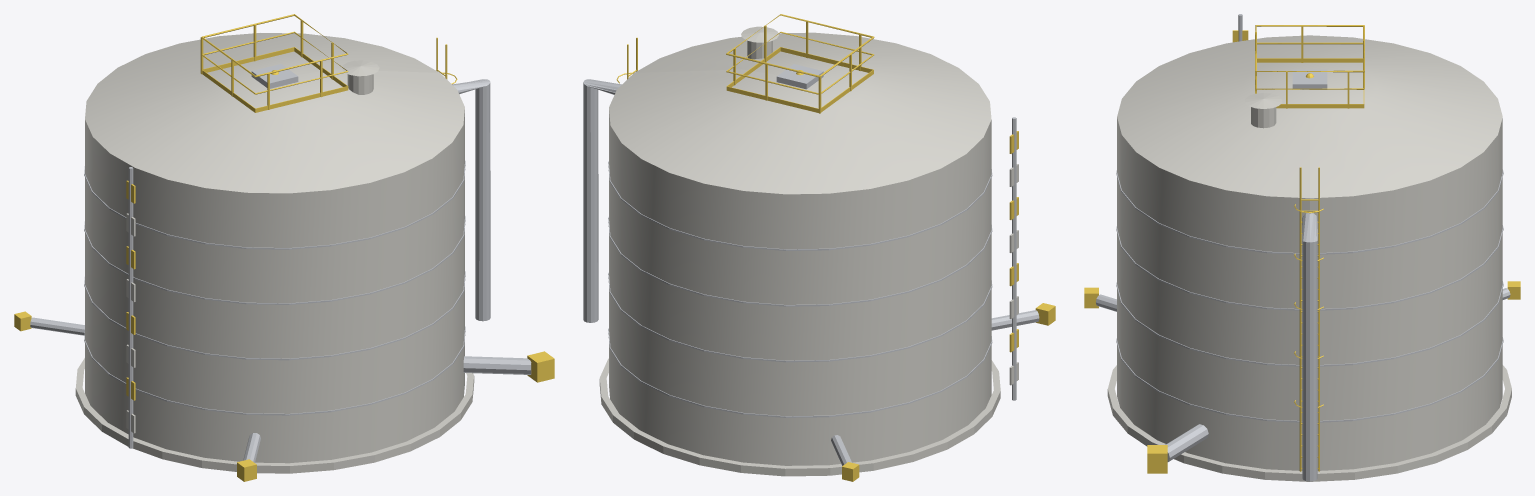
File: ore-processing-and-haulage-plant-process-water-tank-70b51852.glb
3 views of the same model, side by side, from view 1: azimuth 30°, elevation 25°; view 2: azimuth 150°, elevation 25°; view 3: azimuth 270°, elevation 25° (orthographic).
Parts seen in each view (by area): view 1: process-water-tank; view 2: process-water-tank; view 3: process-water-tank.
Boxes of the visible parts, x1,y1,x2,y2 form: process-water-tank: [14, 14, 554, 481]; process-water-tank: [583, 14, 1055, 481]; process-water-tank: [1084, 14, 1520, 481].
Size of the model in its own units: 11.95 by 9.97 by 11.32.
